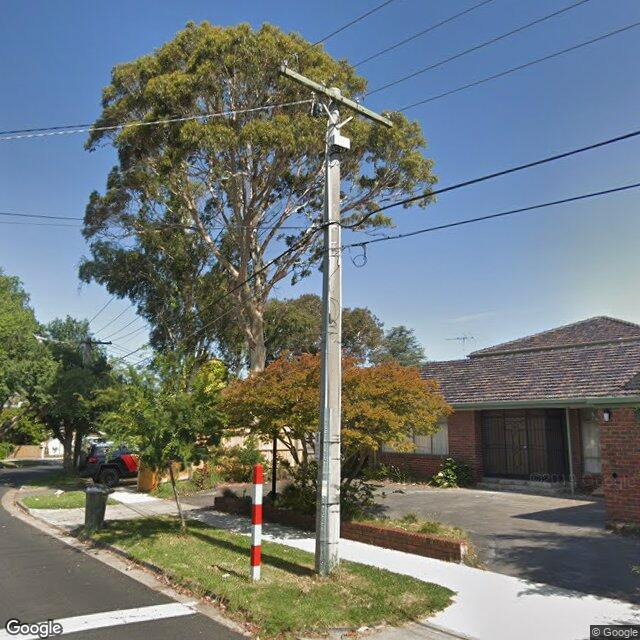concrete-pole: (314, 85, 344, 578)
crossarm: (279, 64, 394, 128), (72, 340, 113, 344)
timber-pole: (74, 337, 92, 473)
